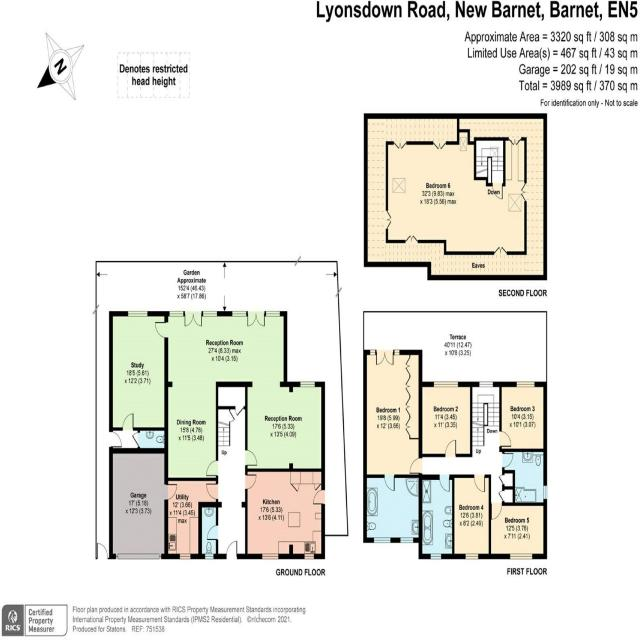DOOR: (154, 321, 168, 339), (245, 448, 258, 467), (491, 501, 503, 520), (226, 540, 238, 559), (499, 430, 512, 447), (409, 457, 422, 474), (206, 460, 219, 477), (205, 483, 218, 500), (109, 431, 122, 448), (473, 474, 485, 492), (445, 439, 457, 457), (122, 413, 134, 431), (164, 484, 177, 500), (245, 473, 257, 490), (439, 474, 450, 492), (502, 452, 514, 468), (313, 489, 325, 505), (384, 474, 395, 491), (207, 525, 218, 540)
DOUBLE DOOR: (376, 349, 394, 367), (184, 311, 203, 328), (247, 311, 266, 328)
ROOM: (363, 349, 423, 492), (245, 468, 325, 560), (418, 381, 473, 458), (488, 502, 548, 560), (499, 381, 547, 452), (452, 474, 491, 559)
WINDOW: (433, 381, 458, 388), (509, 553, 533, 560), (516, 381, 535, 388), (128, 311, 148, 317), (374, 537, 391, 544), (262, 553, 279, 560), (231, 310, 247, 317), (203, 310, 218, 317), (265, 310, 280, 317), (300, 381, 315, 388), (465, 553, 479, 560), (400, 537, 414, 544), (479, 381, 493, 388), (169, 311, 184, 317), (430, 553, 442, 560), (179, 553, 191, 560), (304, 553, 315, 560), (205, 553, 214, 560), (543, 485, 547, 500), (394, 349, 400, 356), (370, 349, 376, 355)
